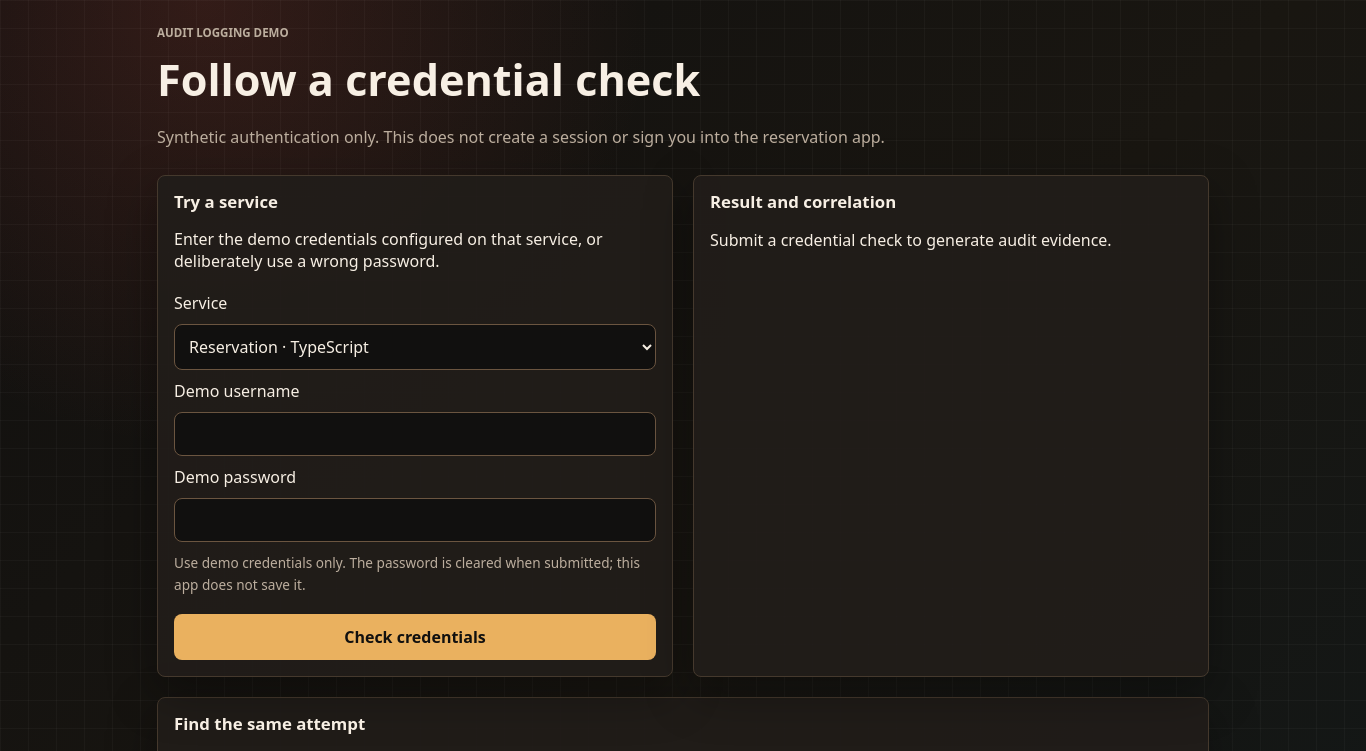
Test: audit credential check screen › shows a network failure with generated search keys, without claiming an event
Step 1. Type "demo-only" into the field labelled "Demo username" → (415, 434), box [174,412,656,456]
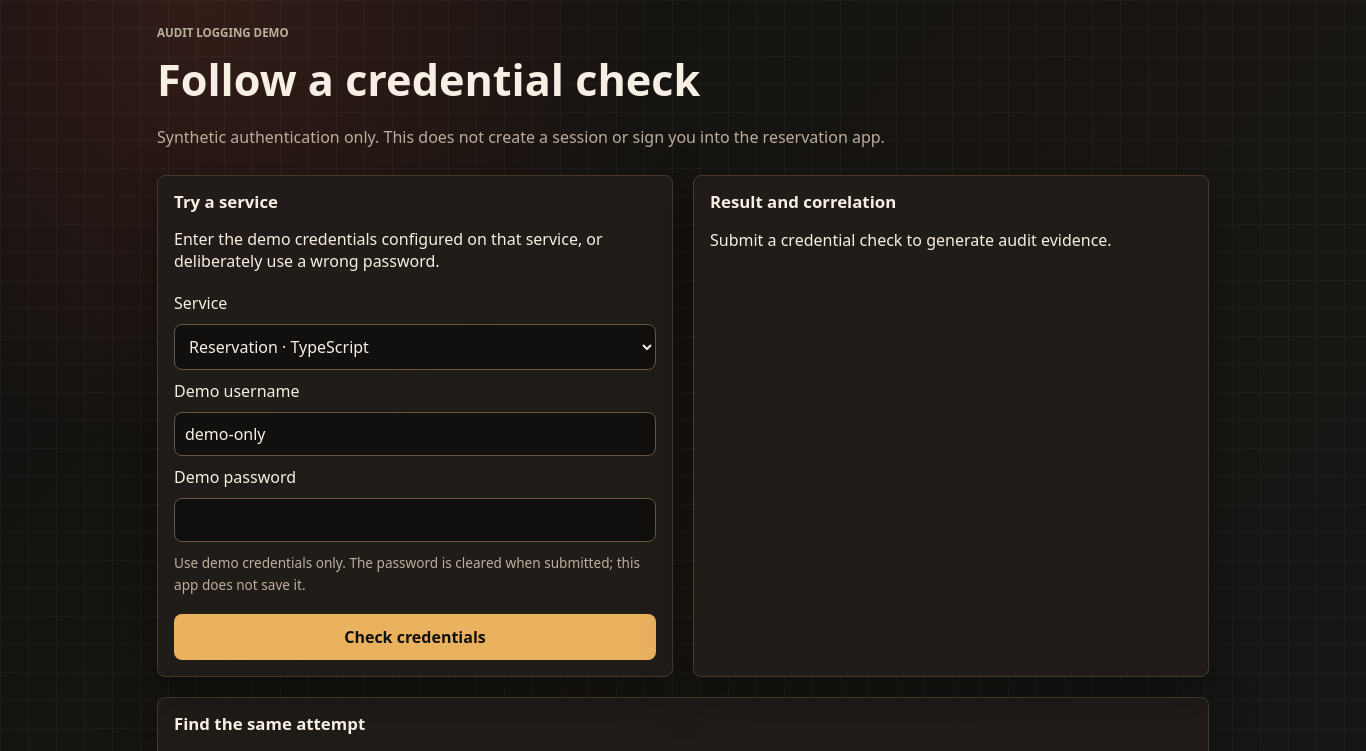
Step 2. Type "wrong-test-password" into the password field labelled "Demo password" → (415, 520), box [174,498,656,542]
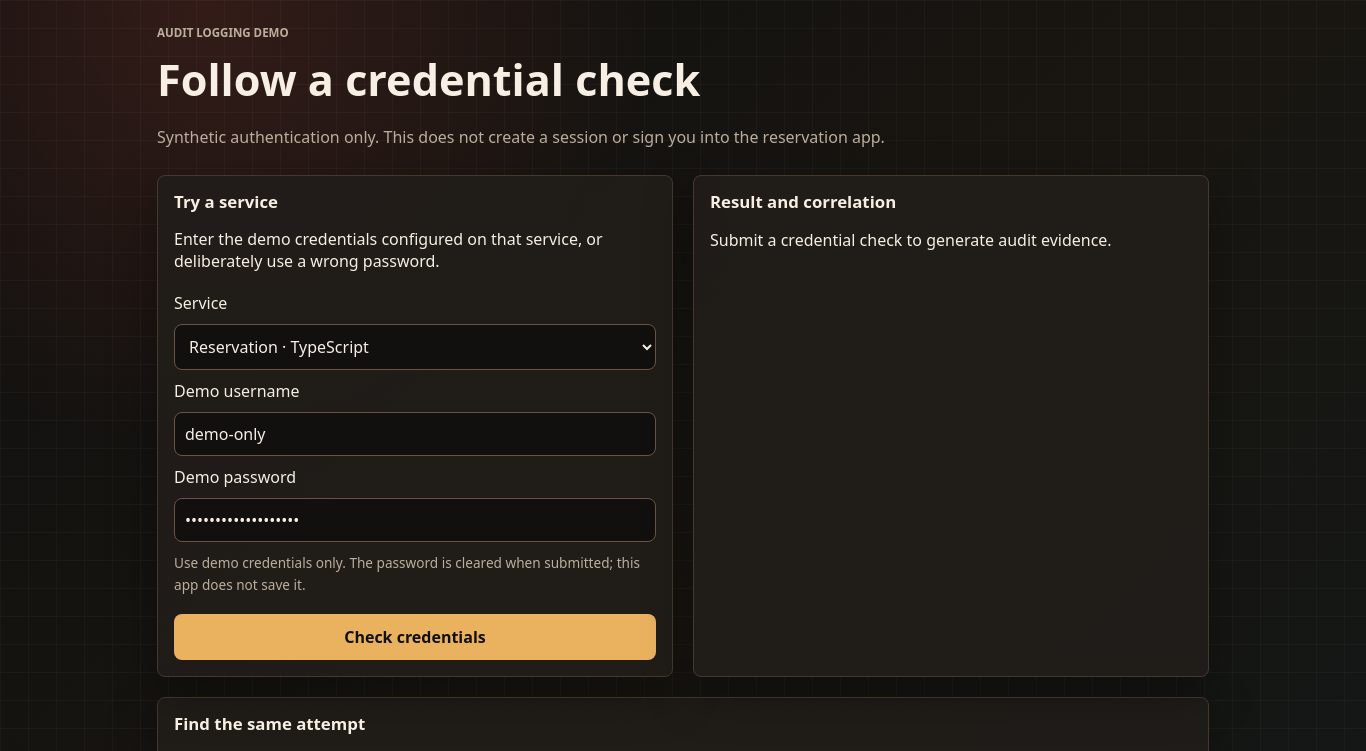
Step 3. Click the button "Check credentials" → (415, 637), box [174,614,656,660]
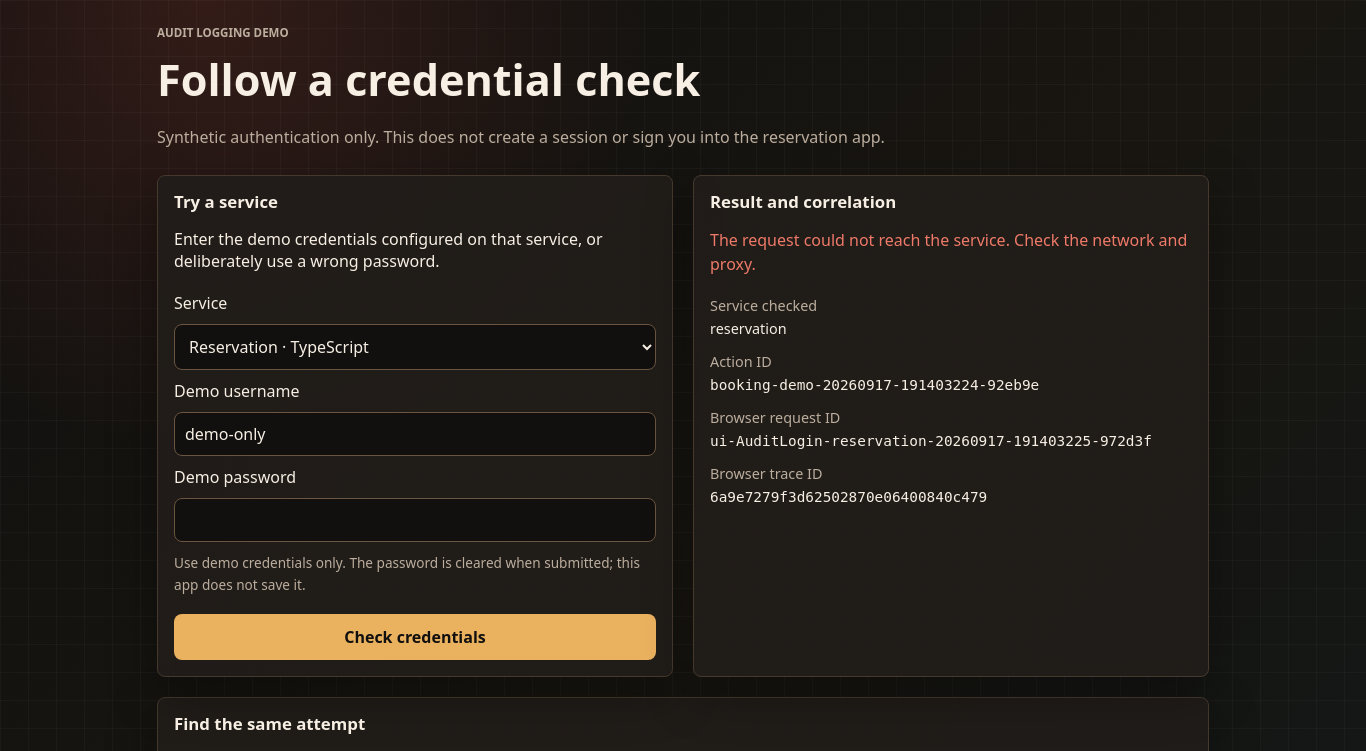
Expected: the message shows "could not reach the service", [710,229,1187,275]
Expected: the text "Action ID" is shown, [710,352,772,371]
Expected: the text "Browser request ID" is shown, [710,408,840,427]
